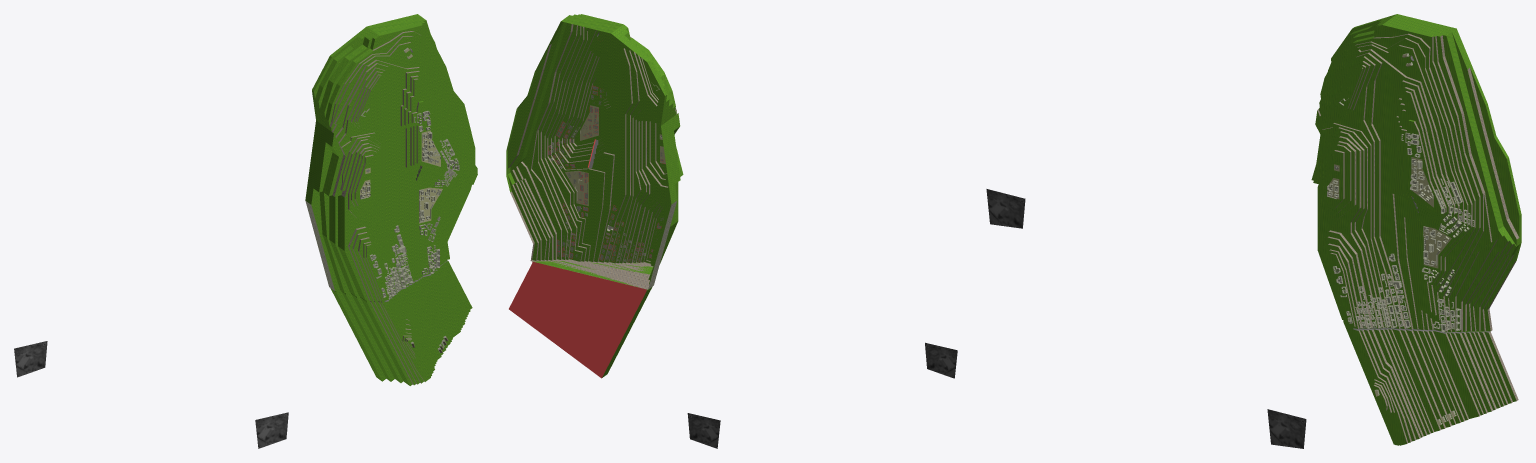
Rendered from machu pichu.fbx.
3 views of the same model, side by side, from view 1: azimuth 30°, elevation 25°; view 2: azimuth 150°, elevation 25°; view 3: azimuth 330°, elevation 25° (orthographic). The views are drawn at different scales.
Parts seen in each view (by area): view 1: Group#25 Vegetation_HoneyLocust, Group#27 Vegetation_HoneyLocust, Group#25 Groundcover_RiverRock_4inch, Google Earth Snapshot, Google Earth Snapshot 2, Group#25 Groundcover_Sand_Smooth, Group#25 Sketchy_Stone_Ashlar, Group#27 Groundcover_RiverRock_4inch; view 2: Group#25 Vegetation_HoneyLocust, Group#25 Groundcover_RiverRock_4inch, Group#27 Layer0, Group#27 Vegetation_HoneyLocust, Group#25 Groundcover_Sand_Smooth, Google Earth Snapshot, Google Earth Snapshot 2, Group#25 Sketchy_Stone_Ashlar; view 3: Group#25 Vegetation_HoneyLocust, Group#25 Groundcover_RiverRock_4inch, Group#27 Vegetation_HoneyLocust, Group#27 Groundcover_RiverRock_4inch, Google Earth Snapshot 2, Google Earth Snapshot, Group#25 Groundcover_Sand_Smooth.
Part boxes in pixels (x1,y1,x2,y2): Group#25 Vegetation_HoneyLocust: [305, 14, 477, 301]; Group#27 Vegetation_HoneyLocust: [330, 261, 472, 385]; Group#25 Groundcover_RiverRock_4inch: [329, 31, 419, 300]; Google Earth Snapshot: [255, 412, 288, 448]; Google Earth Snapshot 2: [14, 341, 47, 377]; Group#25 Groundcover_Sand_Smooth: [360, 130, 442, 223]; Group#25 Sketchy_Stone_Ashlar: [305, 108, 440, 290]; Group#27 Groundcover_RiverRock_4inch: [370, 301, 424, 384]; Group#25 Vegetation_HoneyLocust: [506, 14, 683, 284]; Group#25 Groundcover_RiverRock_4inch: [508, 24, 677, 289]; Group#27 Layer0: [509, 261, 646, 378]; Group#27 Vegetation_HoneyLocust: [533, 261, 652, 377]; Group#25 Groundcover_Sand_Smooth: [565, 105, 665, 205]; Google Earth Snapshot: [687, 413, 720, 448]; Google Earth Snapshot 2: [925, 342, 957, 378]; Group#25 Sketchy_Stone_Ashlar: [575, 84, 676, 289]; Group#25 Vegetation_HoneyLocust: [1311, 14, 1521, 332]; Group#25 Groundcover_RiverRock_4inch: [1317, 33, 1519, 331]; Group#27 Vegetation_HoneyLocust: [1343, 320, 1516, 445]; Group#27 Groundcover_RiverRock_4inch: [1359, 329, 1518, 443]; Google Earth Snapshot 2: [986, 189, 1025, 228]; Google Earth Snapshot: [1267, 409, 1306, 448]; Group#25 Groundcover_Sand_Smooth: [1327, 157, 1451, 268].
Bounding box in the file's own units: 669 × 551 × 83.44.
